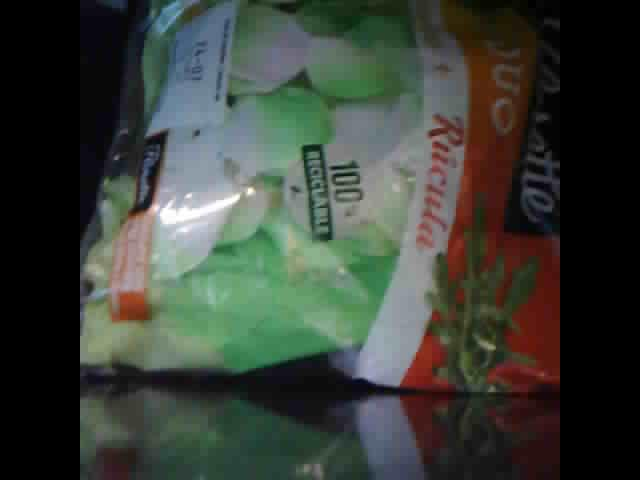florette: (80, 3, 559, 397)
